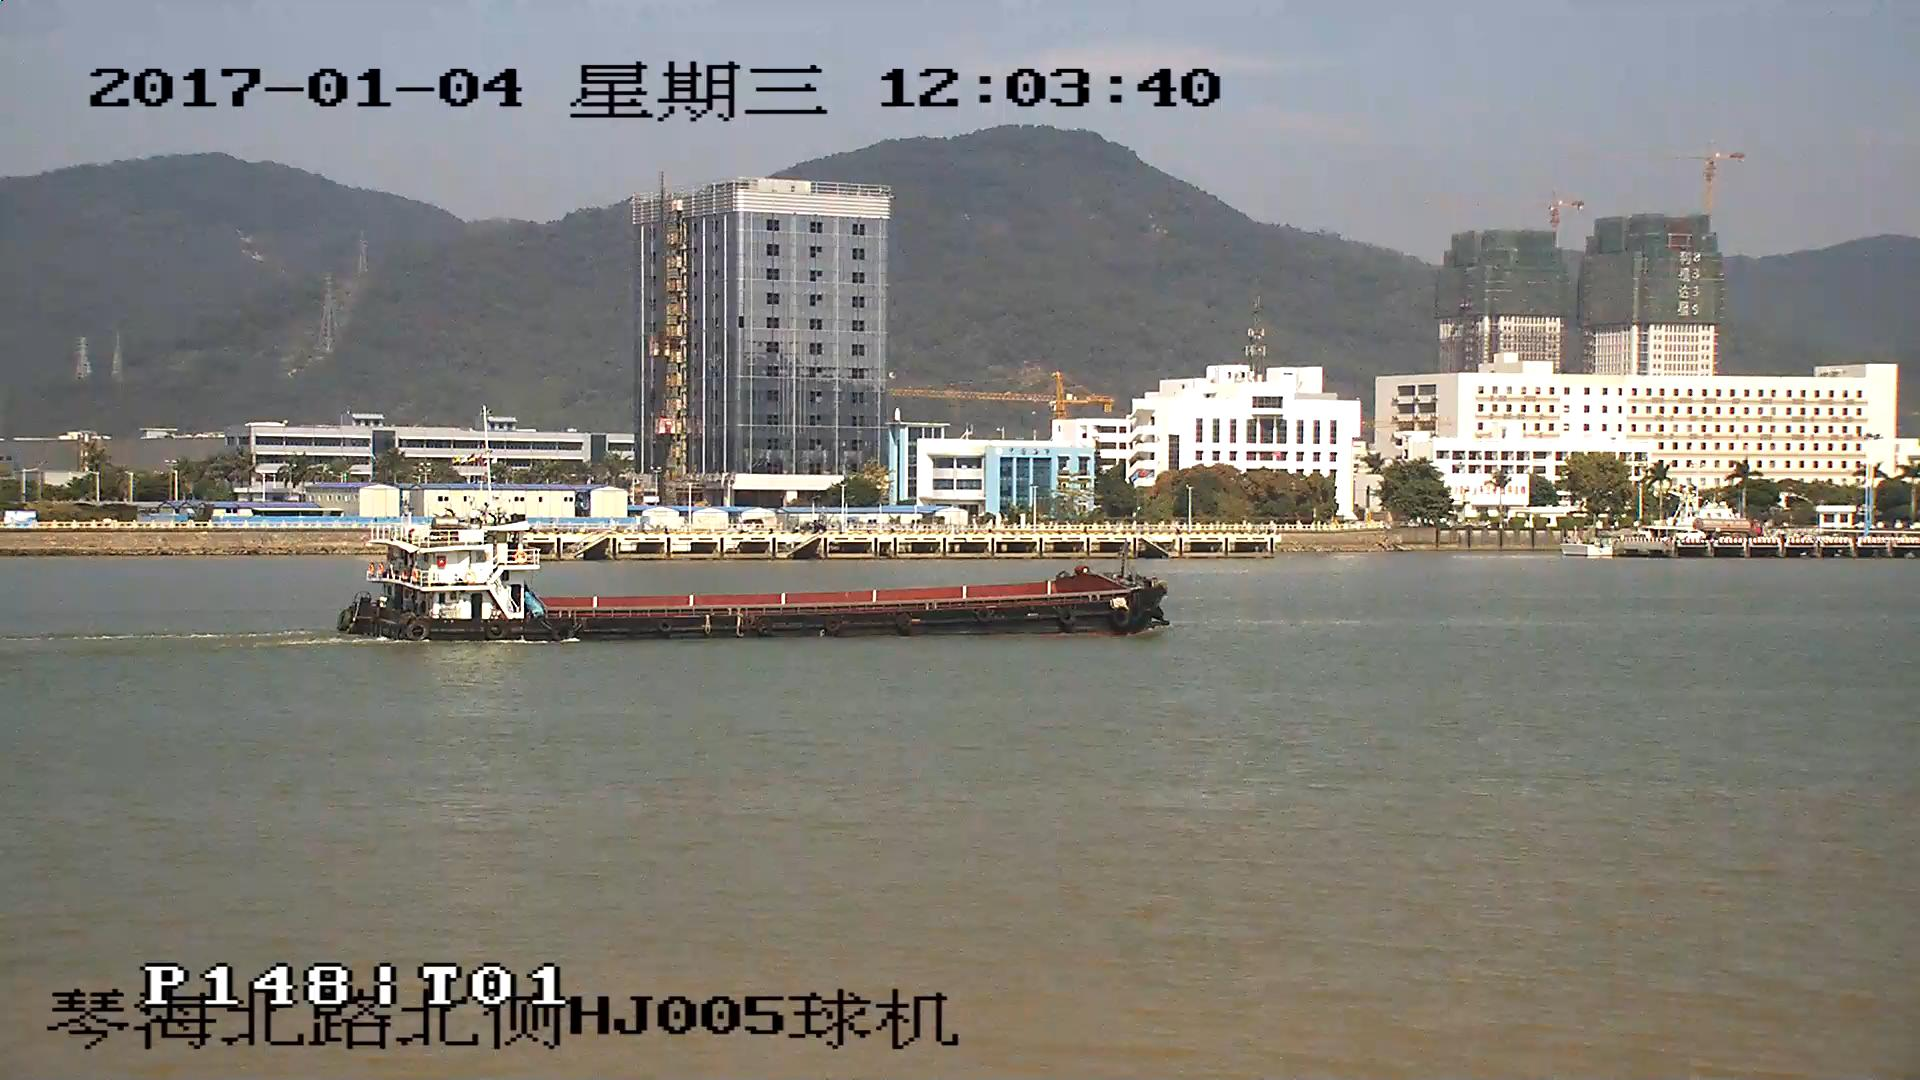general cargo ship: (338, 526, 1172, 644)
